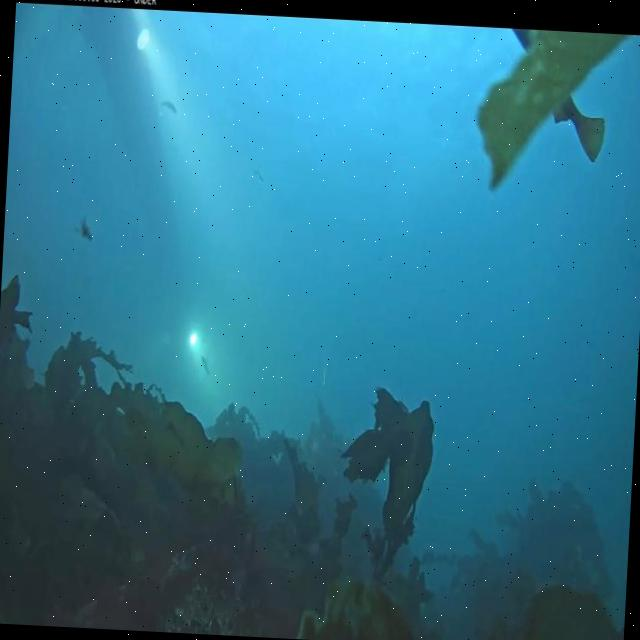fish: (503, 29, 611, 168)
